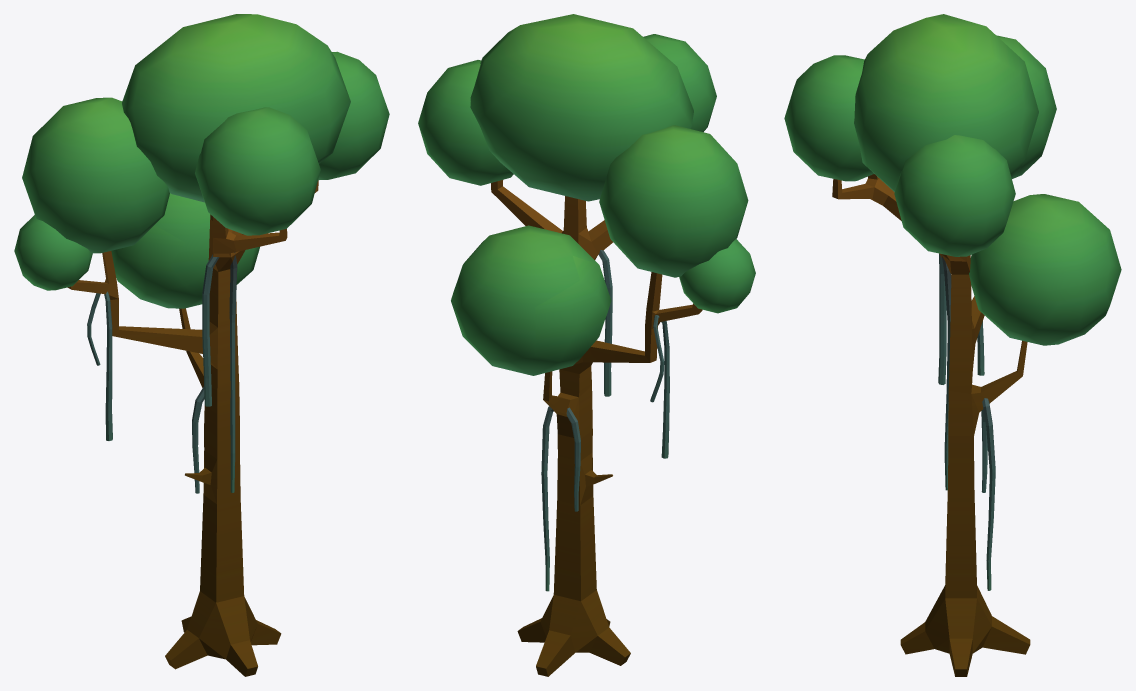
The model's file is Tree_7.fbx.
The picture shows the model from 3 angles, left to right: view 1: azimuth 30°, elevation 25°; view 2: azimuth 150°, elevation 25°; view 3: azimuth 270°, elevation 25°; orthographic projection. The views are drawn at different scales.
Visible parts, largest first — view 1: Tree_7; view 2: Tree_7; view 3: Tree_7.
Part boxes in pixels (x1,y1,x2,y2): Tree_7: [14, 14, 389, 676]; Tree_7: [418, 14, 755, 676]; Tree_7: [784, 14, 1121, 676].
Size of the model in its own units: 3.27 by 5.75 by 2.81.
